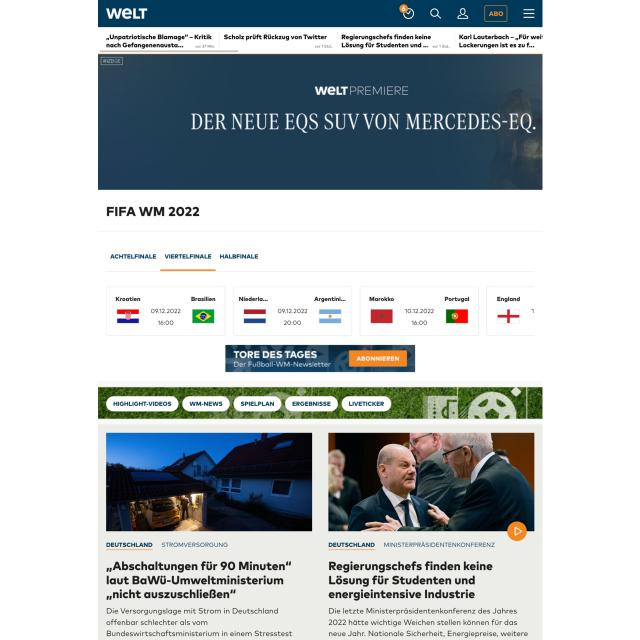CheckBox: (508, 521, 527, 542)
ImageView: (98, 54, 542, 191), (225, 344, 416, 373)
Input field: (327, 605, 531, 640), (106, 606, 297, 640)
RadioButton: (483, 5, 509, 23), (399, 4, 408, 13)
bag: (98, 0, 542, 28)
breadcrumbs: (104, 558, 299, 602), (327, 556, 495, 602)
carousel: (429, 6, 443, 22), (456, 7, 468, 21)
content: (191, 308, 215, 324), (117, 308, 140, 324), (243, 308, 267, 323), (318, 309, 342, 324), (371, 308, 393, 324), (445, 309, 469, 323)
copy: (329, 432, 535, 531), (107, 433, 312, 532)
date picker: (103, 4, 153, 24)
decoration: (522, 8, 536, 20)
icon: (107, 247, 260, 271)
illustration: (105, 395, 178, 413), (340, 394, 393, 414), (182, 394, 232, 414), (285, 395, 338, 413), (233, 394, 282, 413)
image: (104, 202, 202, 220)
